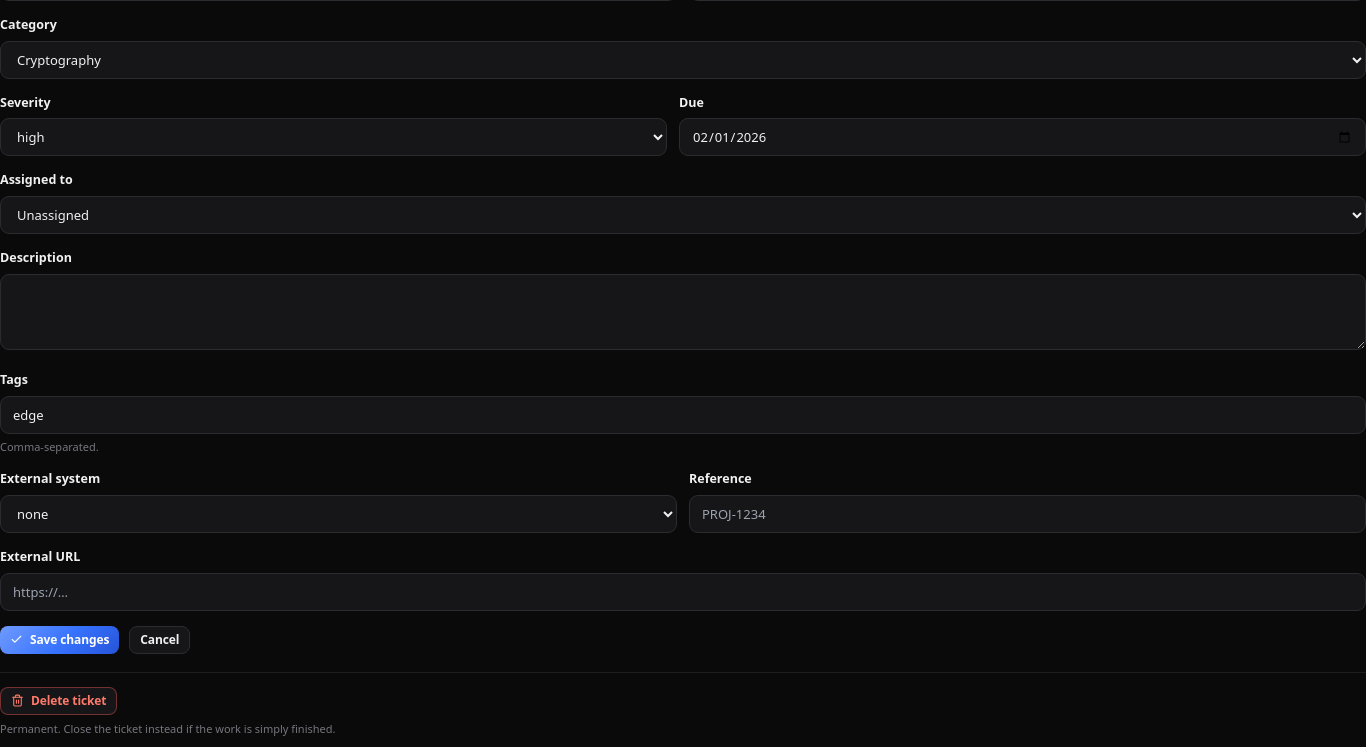
Test: deleting a ticket › says the comment thread goes too, with the count
(page scrolled)
What coordinates should you click on to do the following:
click the button "Delete ticket"
I would click on:
 (59, 701)
Its box is [0,687,117,715].
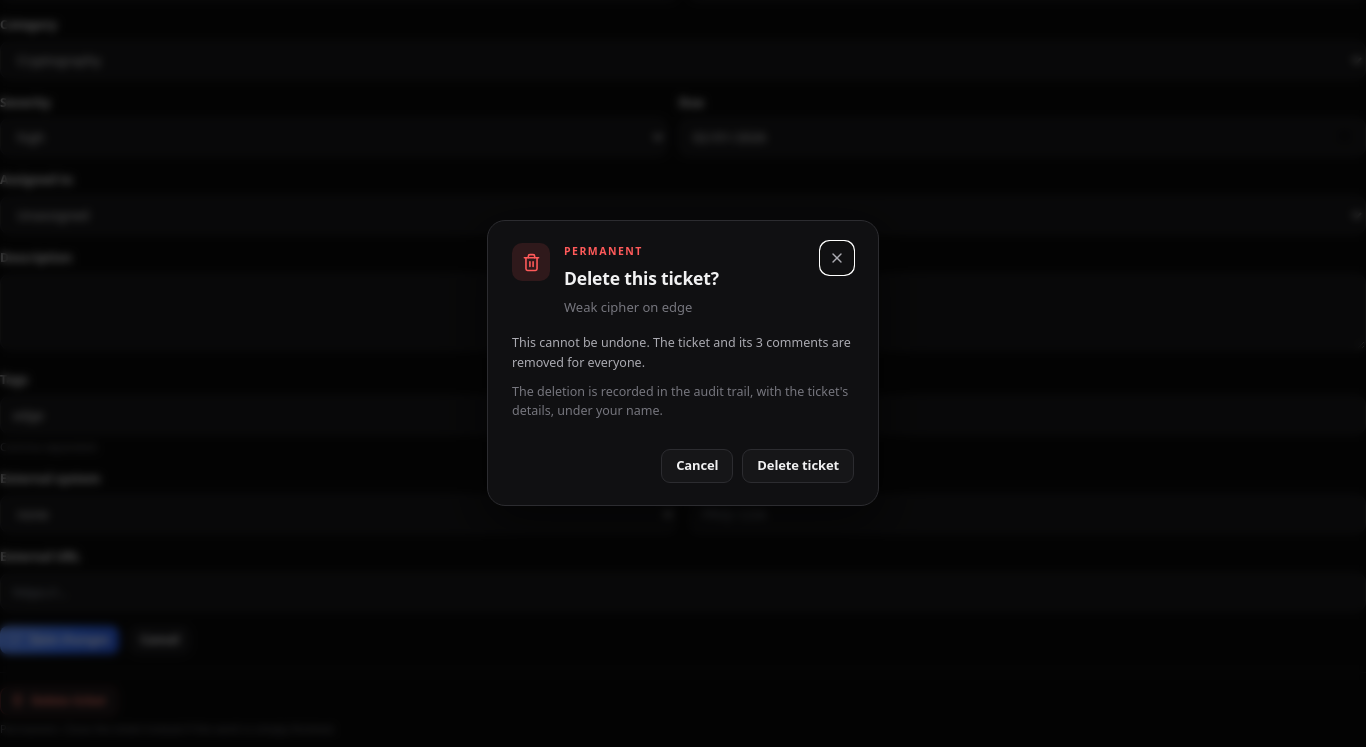
Expected: the text "3 comments" is shown, [710,334,851,351]
Expected: the text "cannot be undone" is shown, [512,334,710,351]
